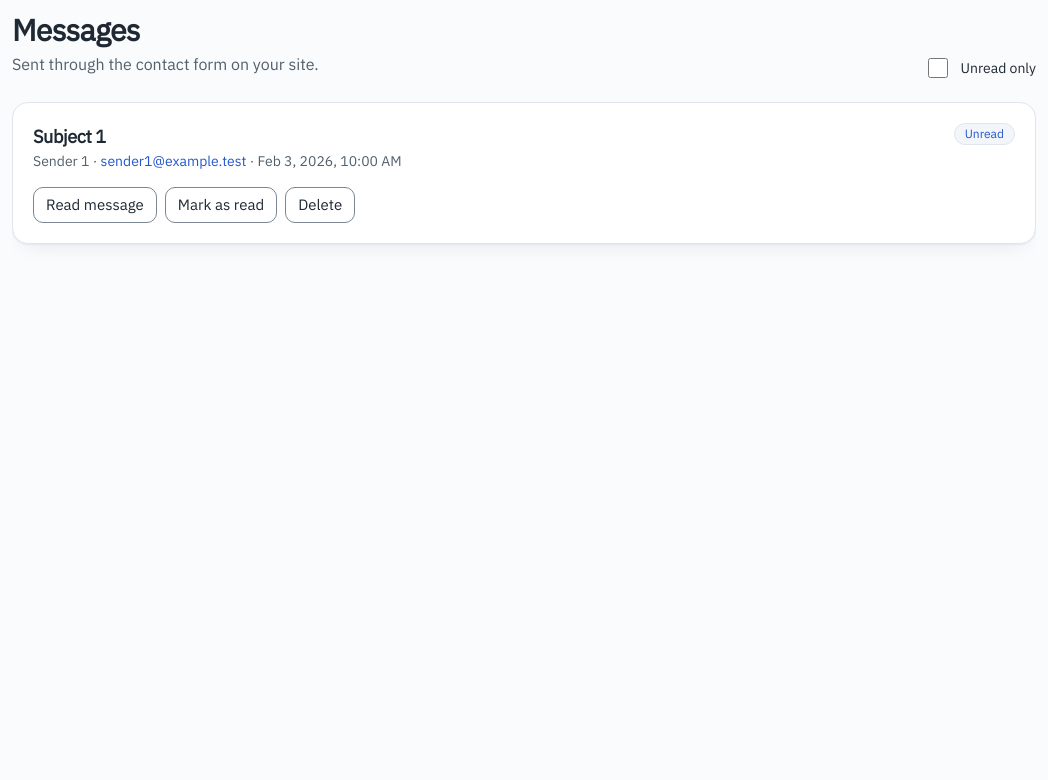
Test: MessagesPage › marks a message read or unread and refreshes the list
The width and height of the screenshot is (1048, 780).
Click the button named "Mark as read: Subject 1".
click(221, 205)  # box top-left (165, 187), bottom-right (277, 223)
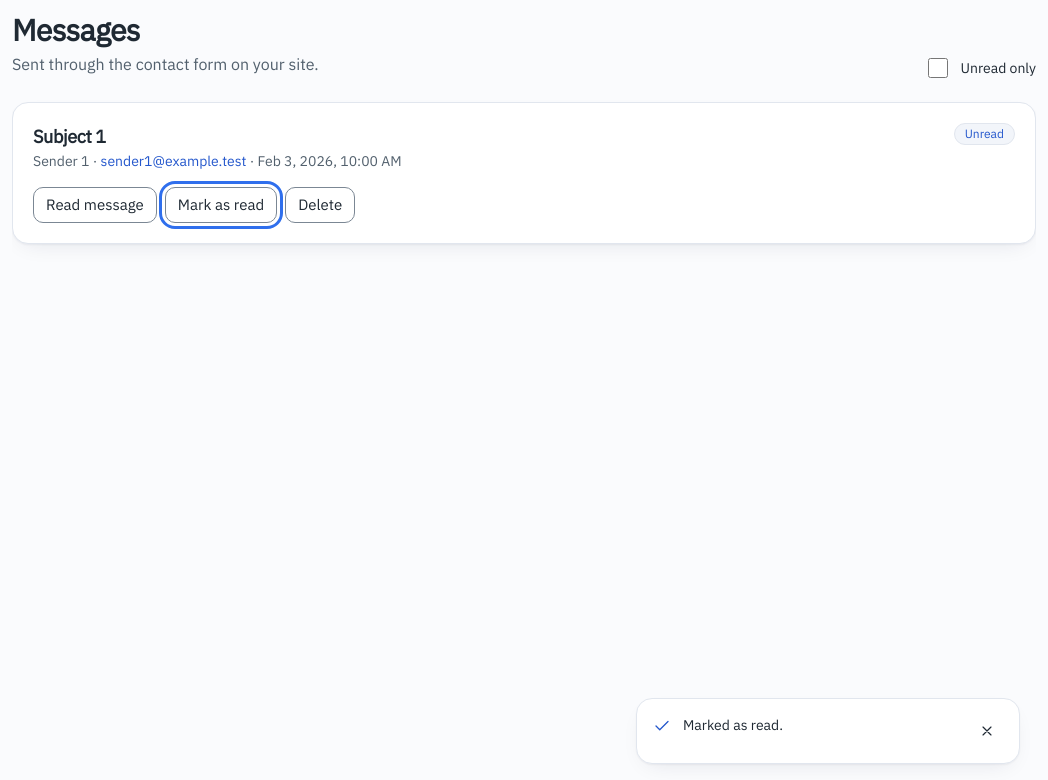
Expected: the text "Marked as read." is shown, top-left (683, 716), bottom-right (783, 734)
